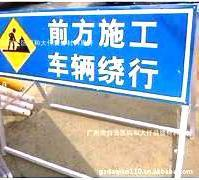sign: (1, 5, 196, 103)
